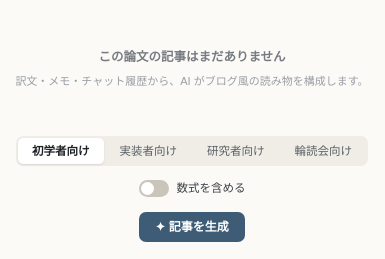
ArticleGenerateCTA (1h §5.2) › submitting posts the current preset/include_math and shows progress until the job resolves
What coordinates should you click on to do the following:
click the radio button labelled "研究者向け"
I would click on:
 (236, 151)
Its box is [193,138,278,164].
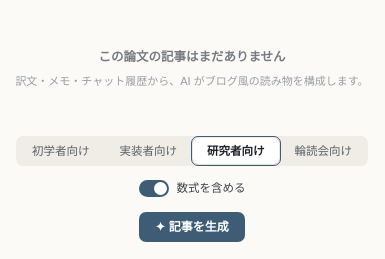
What coordinates should you click on to do the following:
click the button "✦ 記事を生成"
I would click on:
 (192, 227)
Its box is [139,212,245,242].
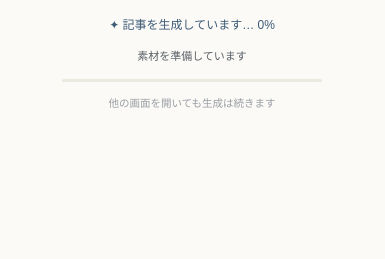
Expected: the text "✦ 記事を生成しています… 0%" is shown, [109,16,275,34]
